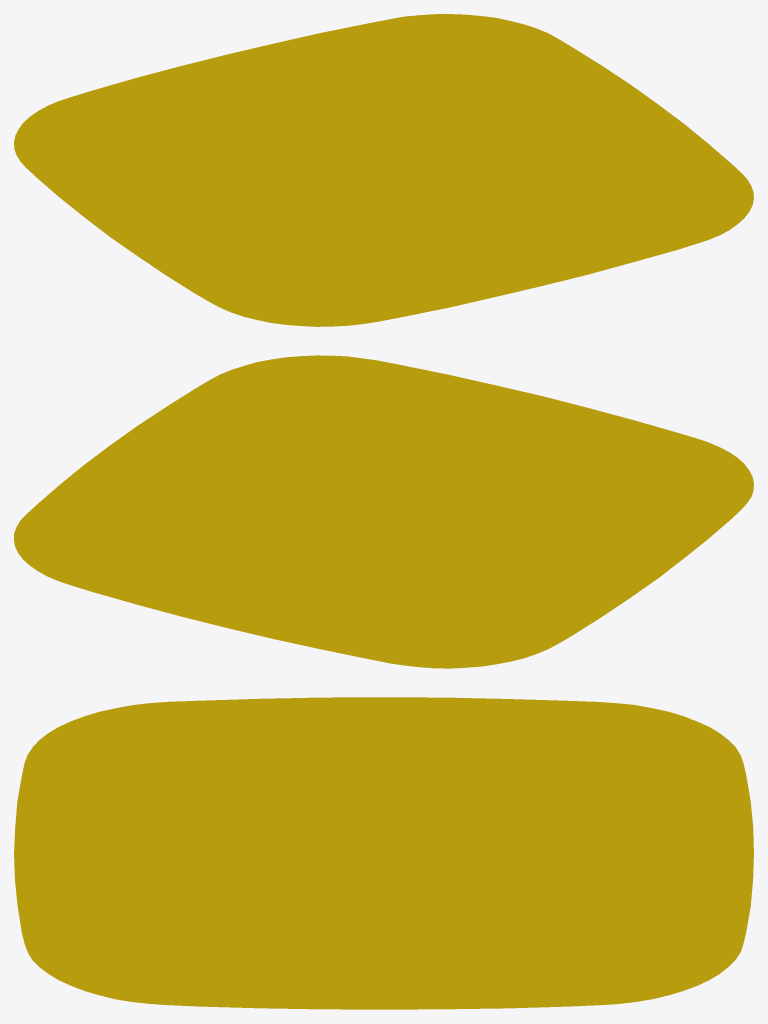
The model's file is original_3.obj.
3 views of the same model, one above another, from view 1: azimuth 30°, elevation 25°; view 2: azimuth 150°, elevation 25°; view 3: azimuth 270°, elevation 25° (orthographic). The views are drawn at different scales.
Visible parts, largest first — view 1: group_2/ID20#ID20; view 2: group_2/ID20#ID20; view 3: group_2/ID20#ID20.
Boxes of the visible parts, box(x1,y1,x2,y2) form: group_2/ID20#ID20: box(14, 14, 753, 326); group_2/ID20#ID20: box(14, 355, 753, 668); group_2/ID20#ID20: box(14, 697, 753, 1009).
Bounding box in the file's own units: 0.5218 × 0.000364 × 0.5223.
